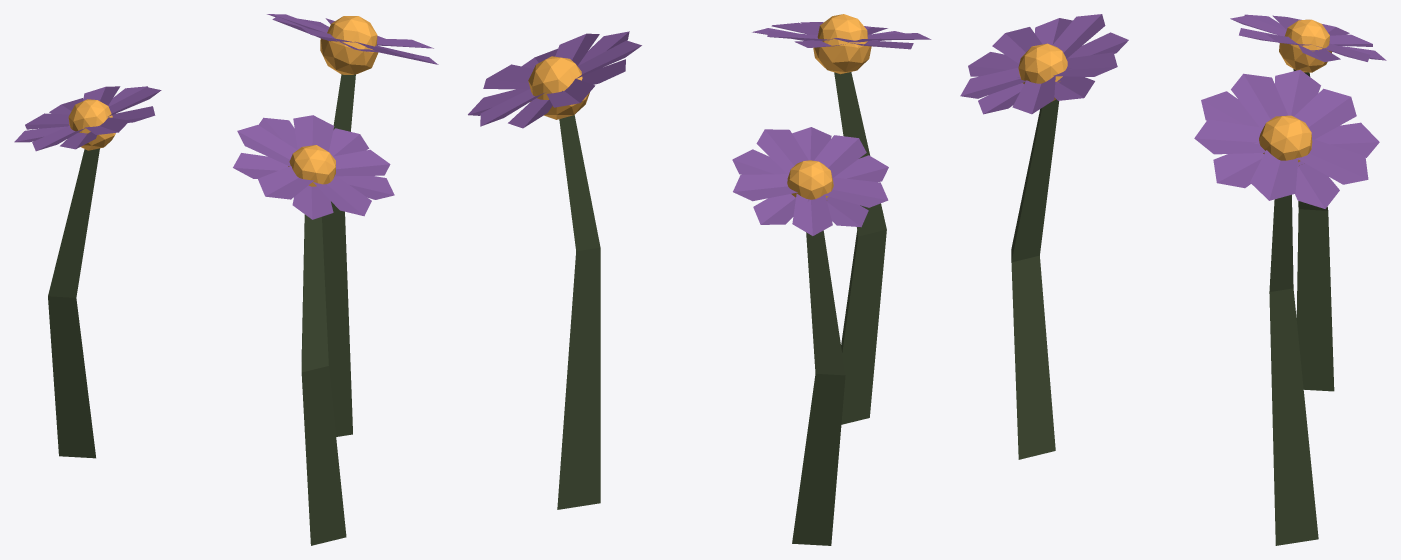
Rendered from Flower-short-purple.fbx.
3 views of the same model, side by side, from view 1: azimuth 30°, elevation 25°; view 2: azimuth 150°, elevation 25°; view 3: azimuth 270°, elevation 25° (orthographic). The views are drawn at different scales.
Parts seen in each view (by area): view 1: Flower-short-purple; view 2: Flower-short-purple; view 3: Flower-short-purple.
Boxes of the visible parts, left/top/right/bottom form: Flower-short-purple: left=14, top=14, right=438, bottom=545; Flower-short-purple: left=468, top=14, right=931, bottom=545; Flower-short-purple: left=960, top=14, right=1386, bottom=545.
Size of the model in its own units: 16.07 by 16.73 by 14.6.
